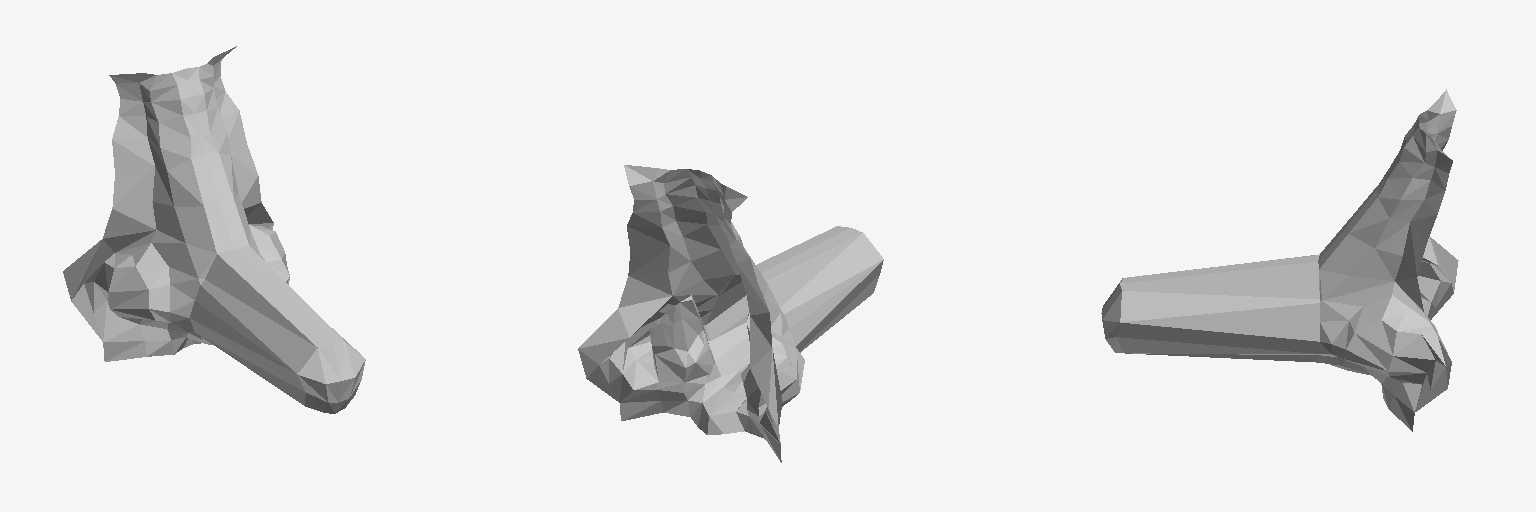
The model's file is nose3.obj.
3 renders of one model, left to right at view 1: azimuth 30°, elevation 25°; view 2: azimuth 150°, elevation 25°; view 3: azimuth 270°, elevation 25°, orthographic.
Visible parts, largest first — view 1: object_1; view 2: object_1; view 3: object_1.
Boxes of the visible parts, x1,y1,x2,y2 form: object_1: [63, 46, 365, 413]; object_1: [578, 165, 883, 462]; object_1: [1101, 89, 1458, 431].
Size of the model in its own units: 19.86 by 24.94 by 29.54.